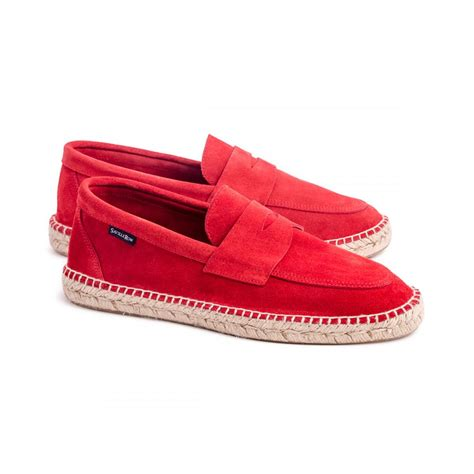gamuza: (54, 133, 414, 318)
